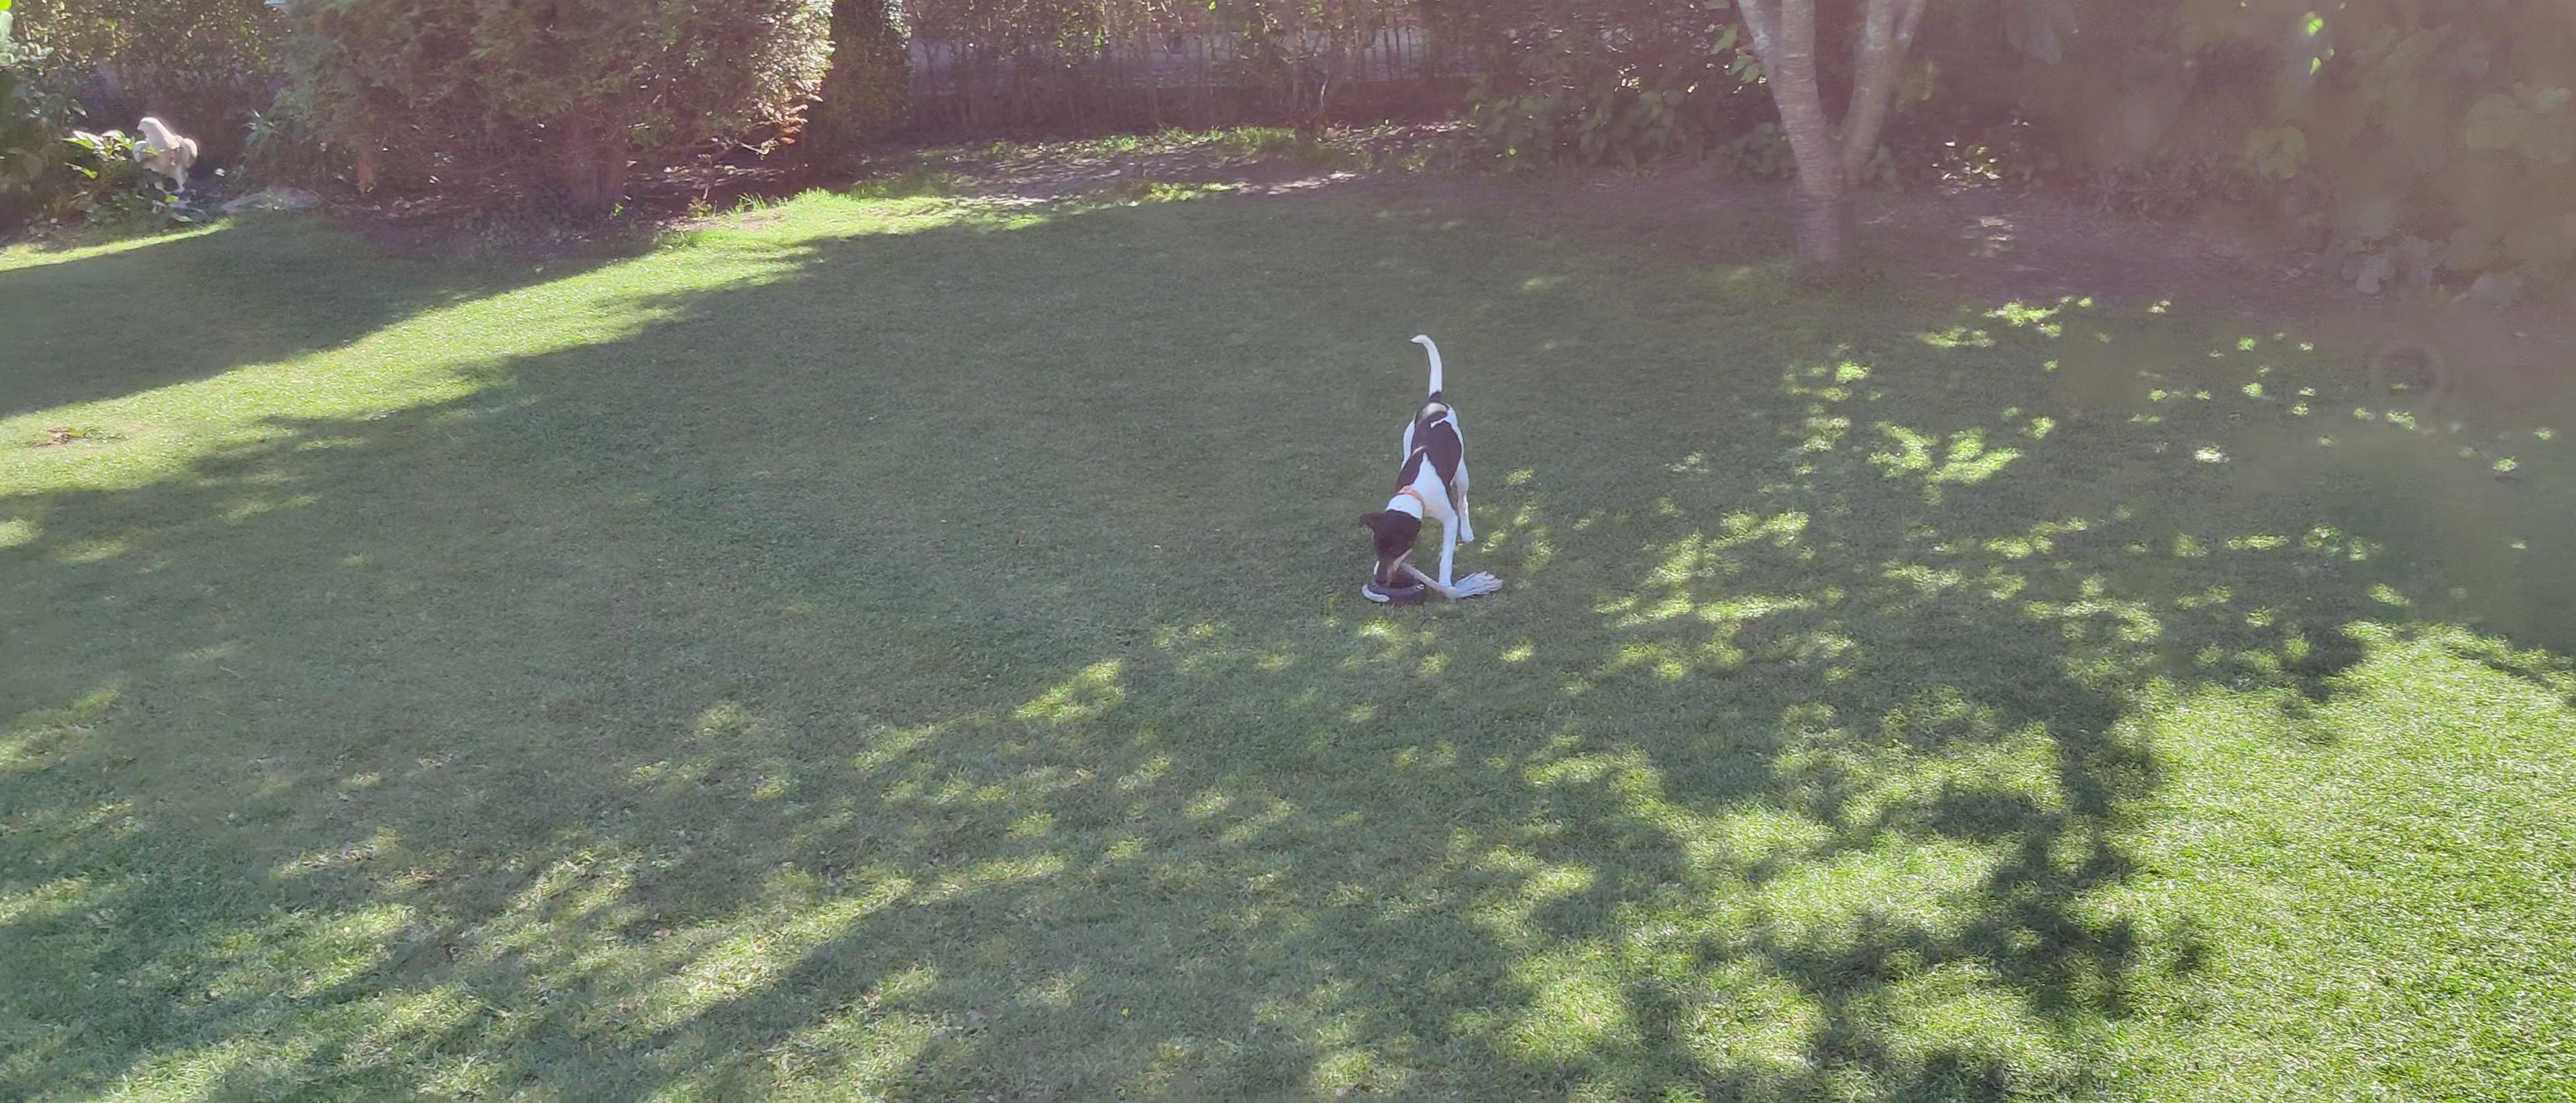Dog: (1357, 332, 1477, 588)
